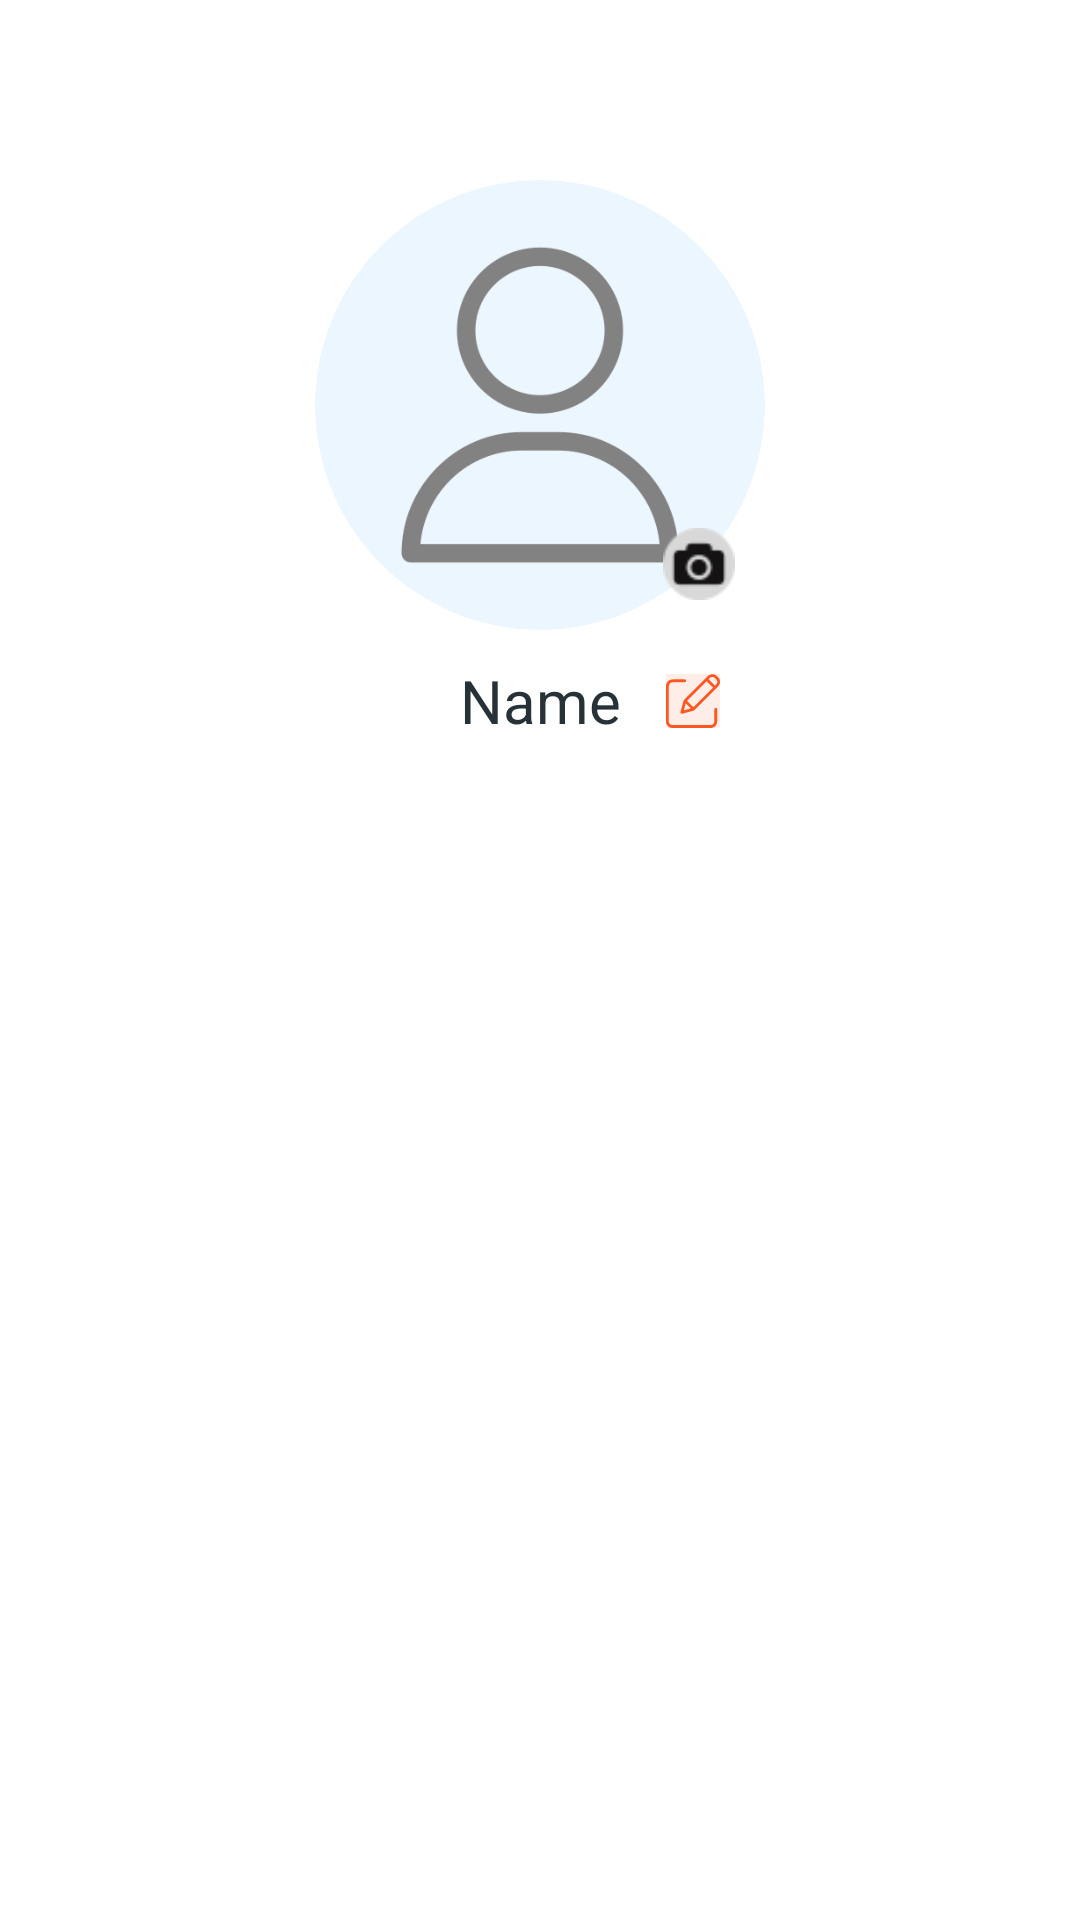

Icon bounding boxes for this 1080×1920 phone screenshot, format (x1, y1, x2, y2):
edit: (666, 674, 720, 728)
